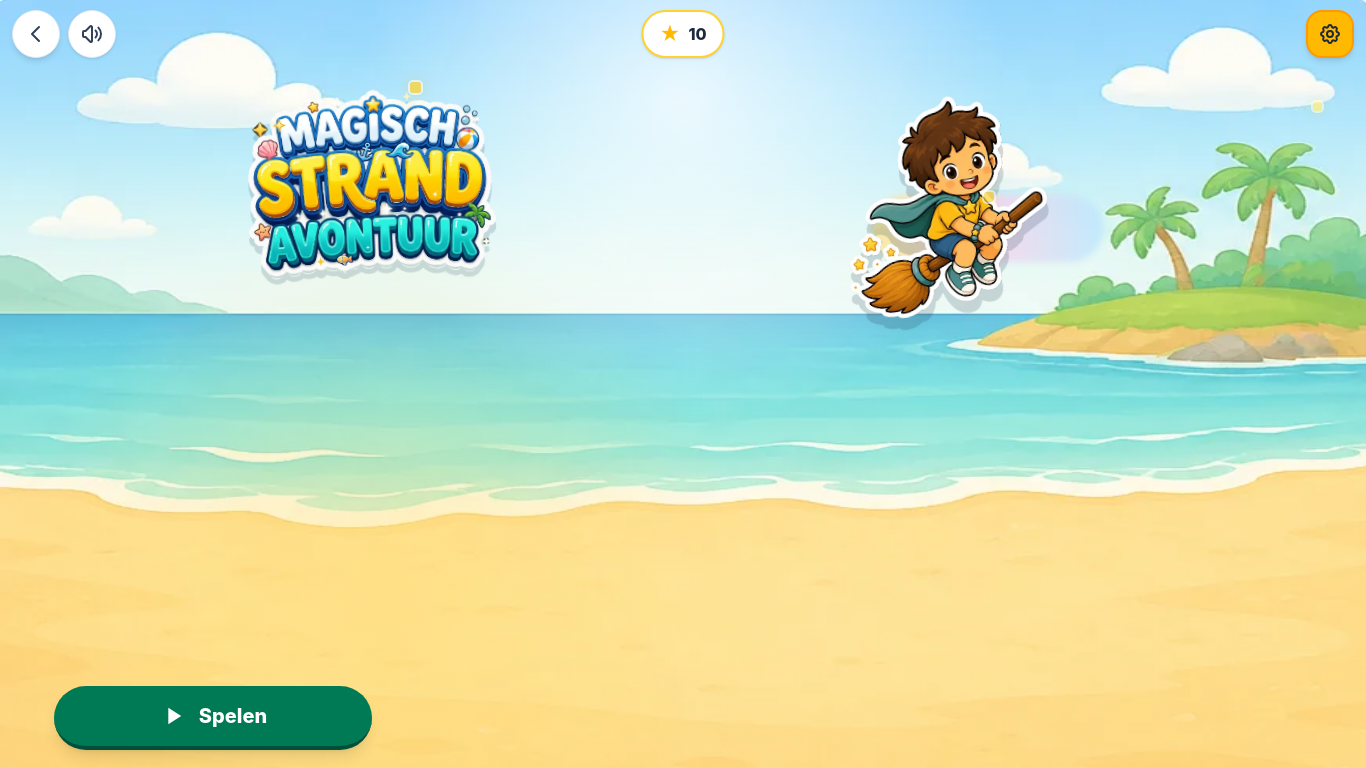
Test: generiek gamecontract › start de strandgame zonder recursieve statusupdates
Click the button with aria-label "Spel starten": (213, 718) [54, 686, 372, 750]
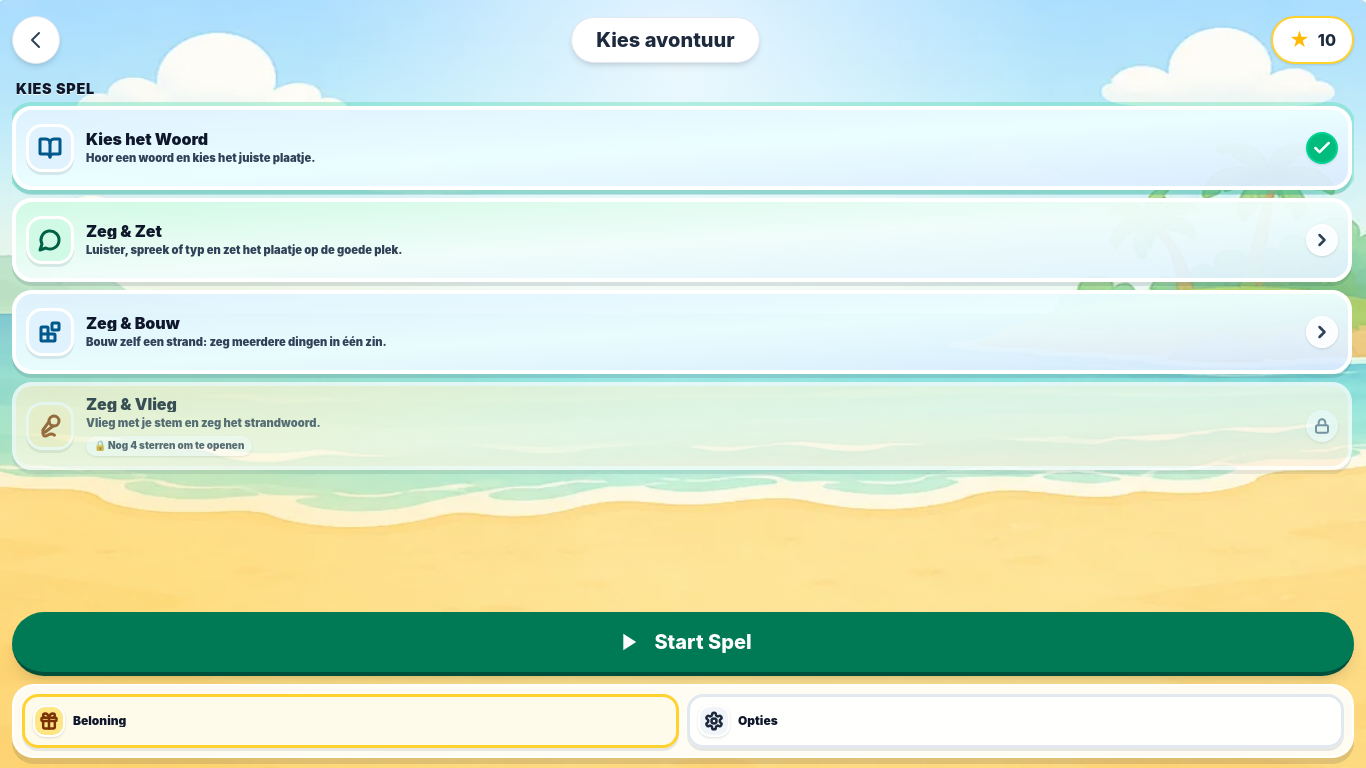
Click the button with test id "compact-mode-card-listen-and-place": (50, 240) [12, 198, 1352, 282]
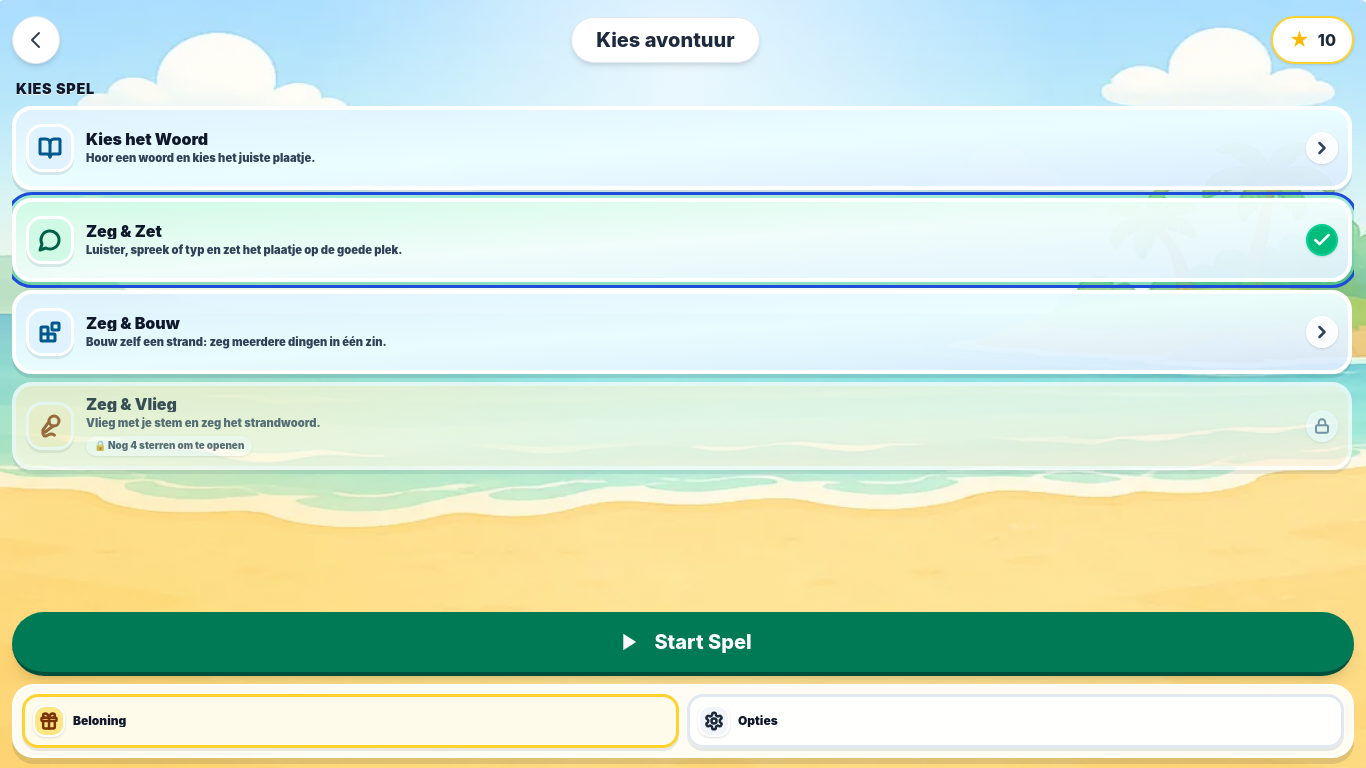
Click the button "Start Spel": (683, 644) [12, 612, 1354, 676]
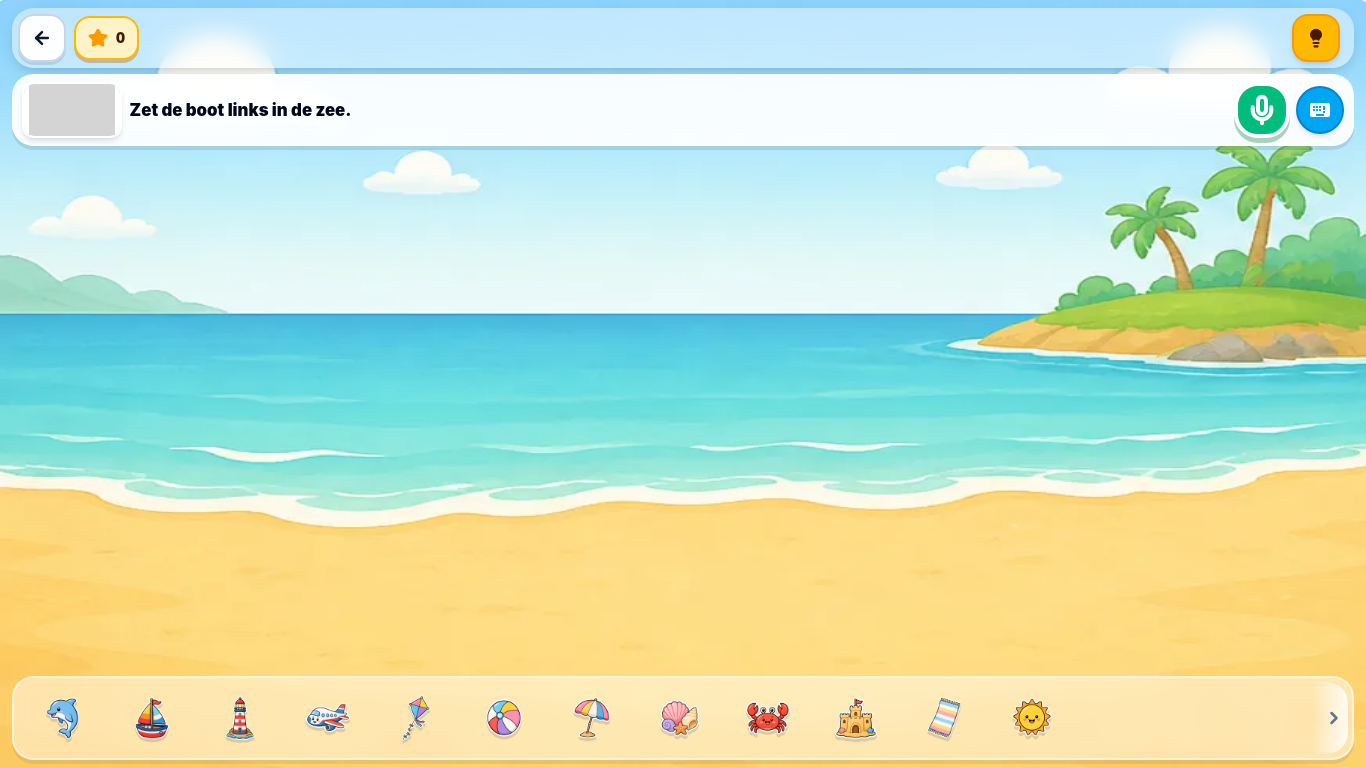
expect the element with test id "scene-builder-screen" is shown: met
